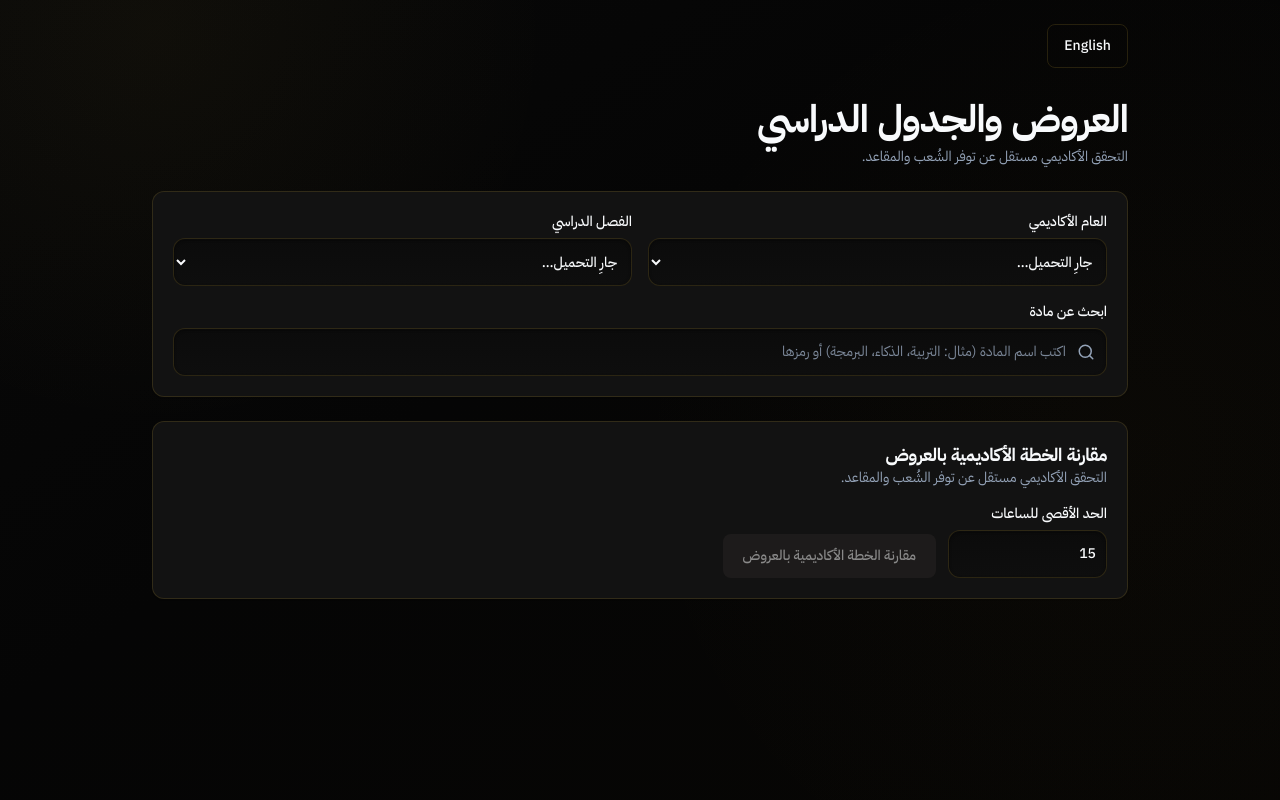
Test: Teh-Marbuta variation matches in autocomplete
Type "مقدمه" with Heh instead of Teh Marbuta
Type "مقدمه" into the dropdown labelled "ابحث عن مادة" at point(640, 352), box [173,328,1107,376]
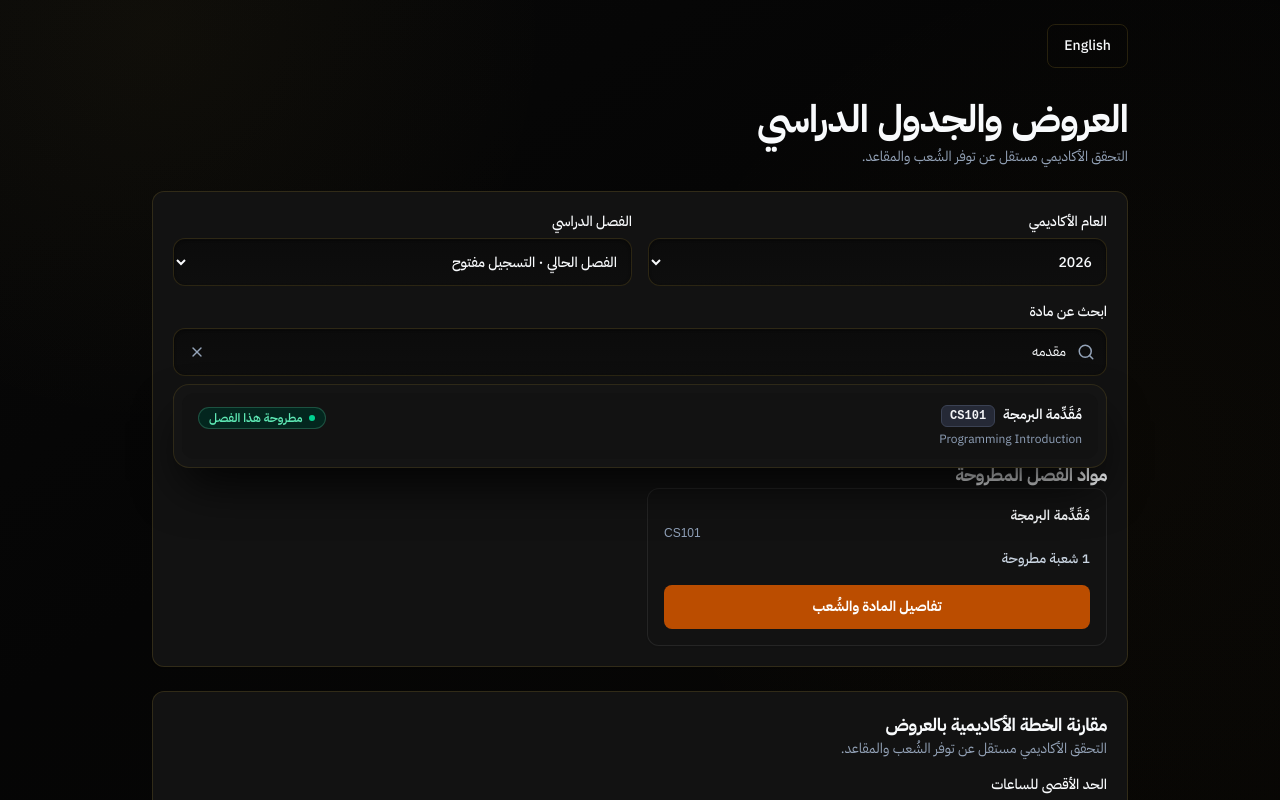
Expected: the option "مُقَدِّمة البرمجة" is shown, [182,393,1098,459]
